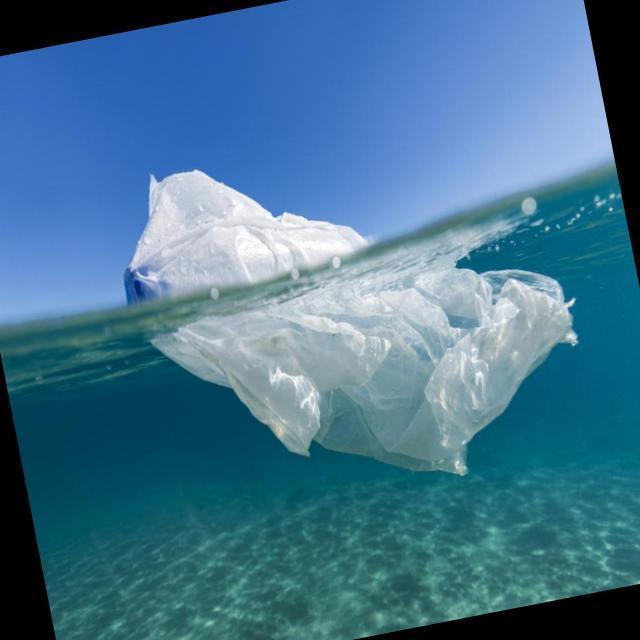Plastic_Bag: (106, 86, 597, 542)
